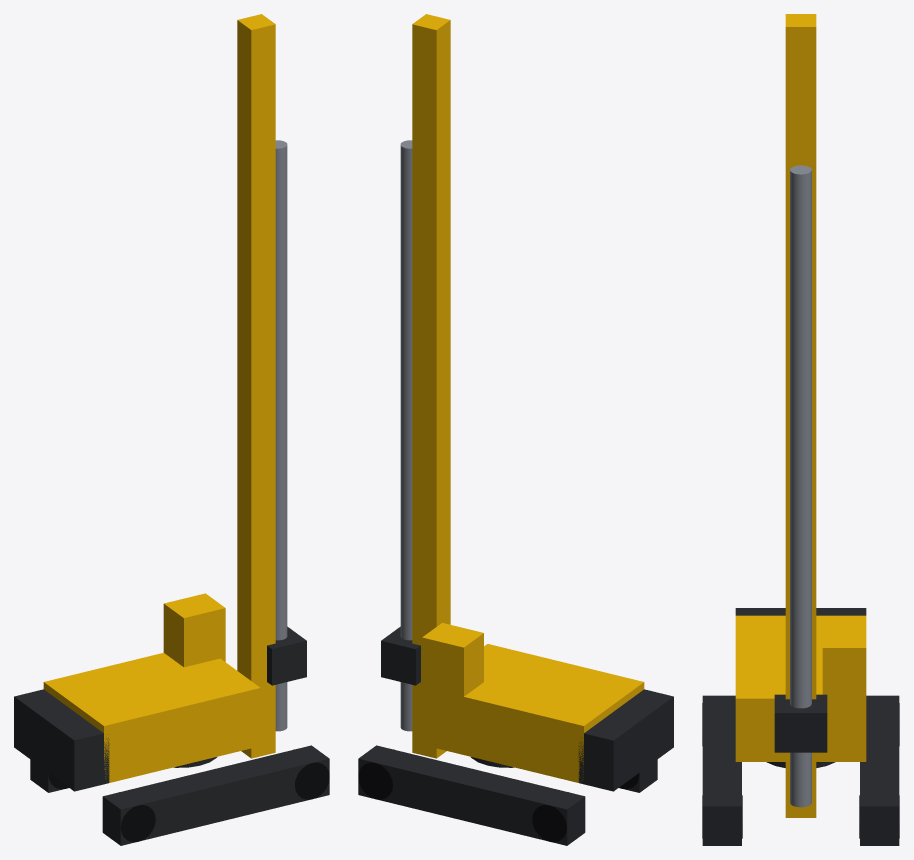
The model's file is rotary-piling-rig.glb.
3 views of the same model, side by side, from view 1: azimuth 30°, elevation 25°; view 2: azimuth 150°, elevation 25°; view 3: azimuth 270°, elevation 25° (orthographic). The views are drawn at different scales.
Size of the model in its own units: 7.2 by 20.5 by 4.52.
